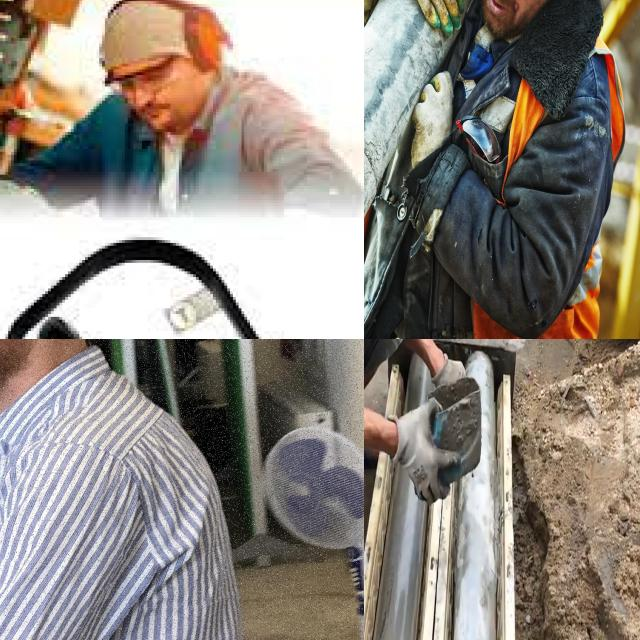Ear-protection: (4, 213, 264, 339), (107, 0, 234, 79)
face_nomask: (479, 0, 546, 43)
hand_glove: (384, 397, 460, 505), (406, 62, 456, 166), (387, 0, 470, 36)
person: (373, 0, 603, 339)
vest: (459, 48, 601, 339)
